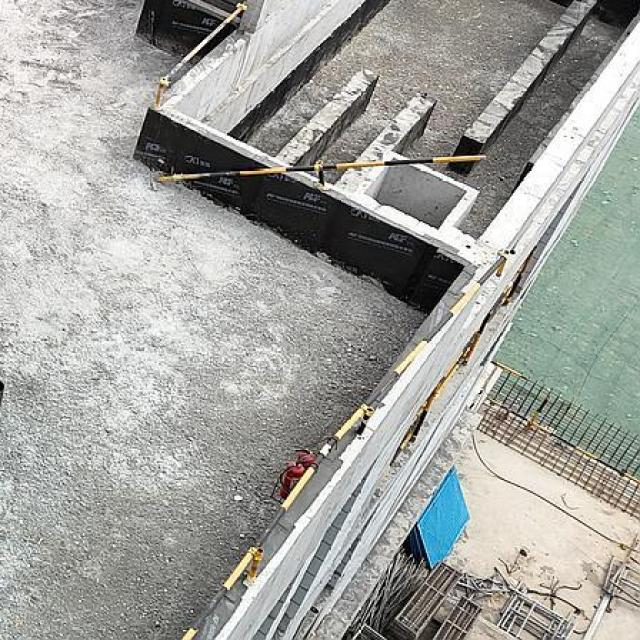edge_guardrail: (177, 251, 510, 640), (386, 244, 538, 470), (155, 155, 486, 188), (154, 2, 250, 107)
